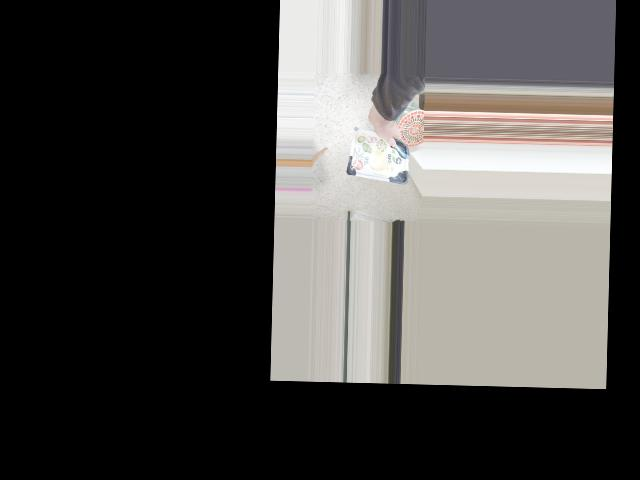cheese: (348, 118, 398, 168)
